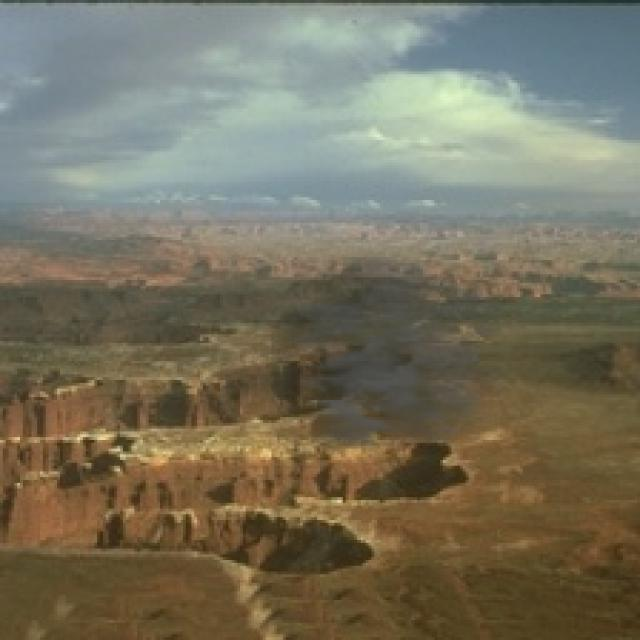smoke: (271, 257, 526, 466)
